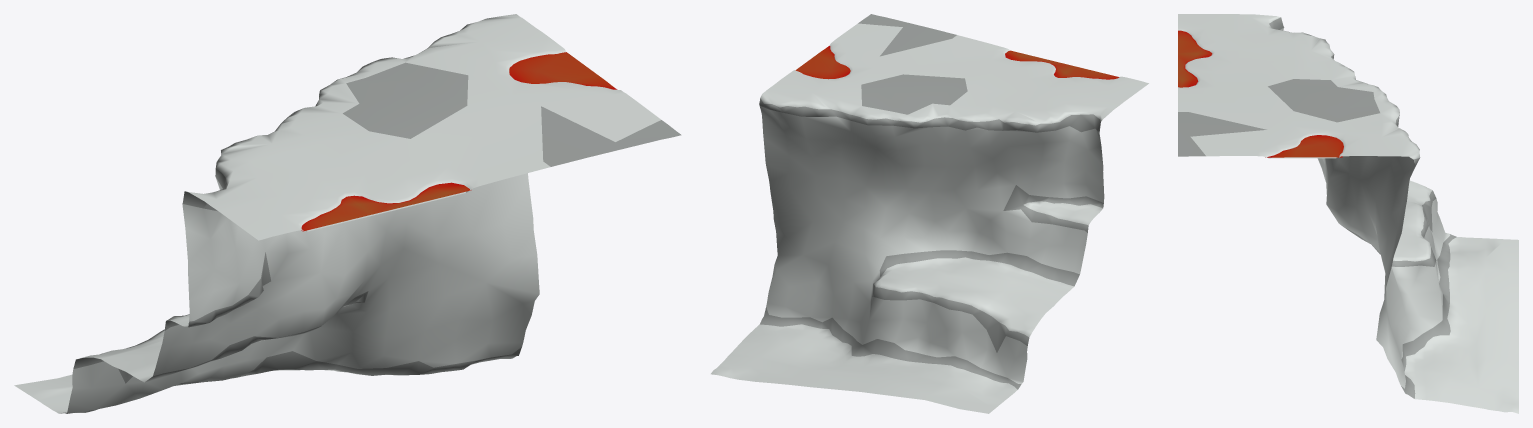
The picture shows the model from 3 angles, left to right: view 1: azimuth 30°, elevation 25°; view 2: azimuth 150°, elevation 25°; view 3: azimuth 270°, elevation 25°; orthographic projection. The views are drawn at different scales.
Parts seen in each view (by area): view 1: G:\FFXIV-MapTools\exports\r2f1\bg\ex1\01_roc_r2\fld\r2f1\bgp (×6); view 2: G:\FFXIV-MapTools\exports\r2f1\bg\ex1\01_roc_r2\fld\r2f1\bgp (×6); view 3: G:\FFXIV-MapTools\exports\r2f1\bg\ex1\01_roc_r2\fld\r2f1\bgp (×6).
Boxes of the visible parts, x1=… form: G:\FFXIV-MapTools\exports\r2f1\bg\ex1\01_roc_r2\fld\r2f1\bgp (×6): x1=14, y1=14, x2=681, y2=413; G:\FFXIV-MapTools\exports\r2f1\bg\ex1\01_roc_r2\fld\r2f1\bgp (×6): x1=711, y1=14, x2=1148, y2=413; G:\FFXIV-MapTools\exports\r2f1\bg\ex1\01_roc_r2\fld\r2f1\bgp (×6): x1=1178, y1=14, x2=1518, y2=413.
Size of the model in its own units: 128 by 107 by 128.
